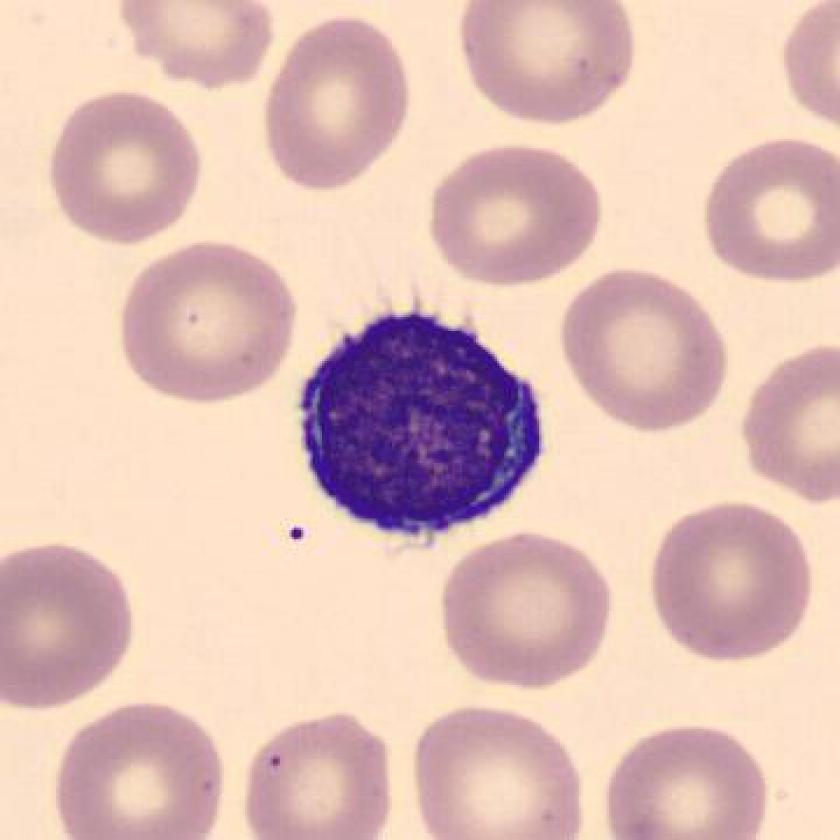lymphocyte: (279, 288, 563, 556)
